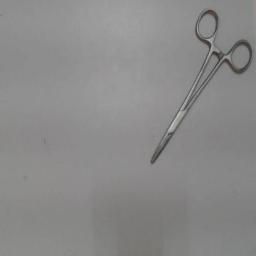Mayo Needle Holder: (142, 4, 254, 174)
